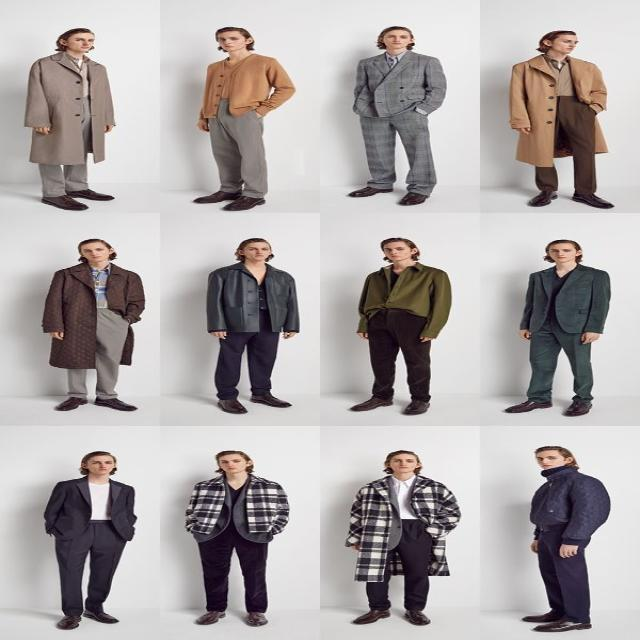person: (344, 450, 461, 626), (190, 26, 294, 211), (504, 238, 612, 416), (508, 30, 614, 208), (183, 450, 290, 626), (348, 237, 452, 415), (346, 26, 446, 206), (41, 238, 145, 411), (23, 28, 118, 210), (520, 446, 612, 632), (42, 450, 136, 630), (205, 237, 300, 414)
